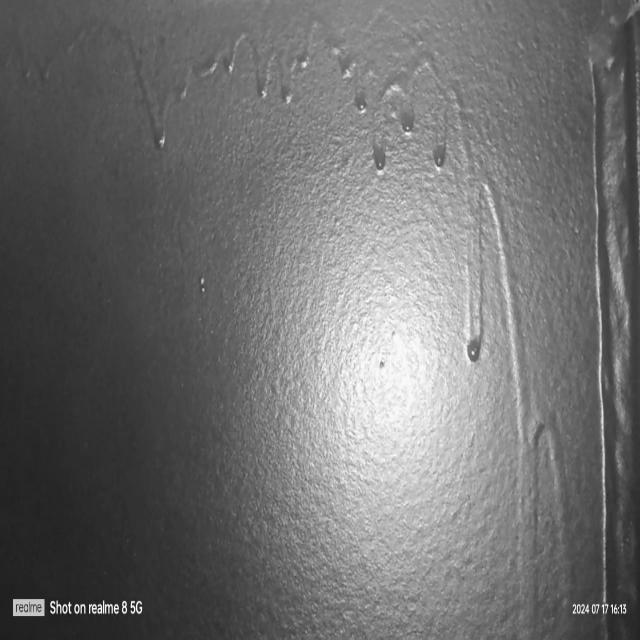paint drips: (5, 14, 470, 215), (449, 133, 580, 640)
